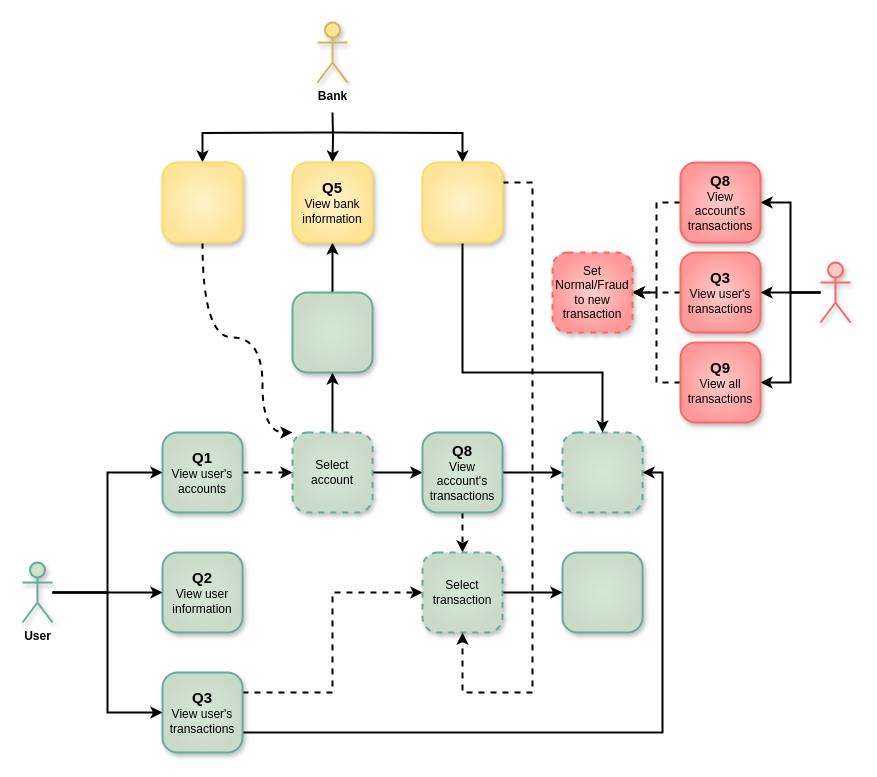
Image size: 877x777. Some labels were removed from this diagram. The shapes that lost their labels are listed below. From the top down, each one's centre as x and y in pixels, then its label:
the point at 203,203: Q4 View bank's accounts
the point at 463,203: Q6 View bank's transactions
the point at 836,293: Fraud Detector
the point at 333,333: Q7 View account details
the point at 603,473: Highlight frauds
the point at 603,593: Q9 View transaction information
